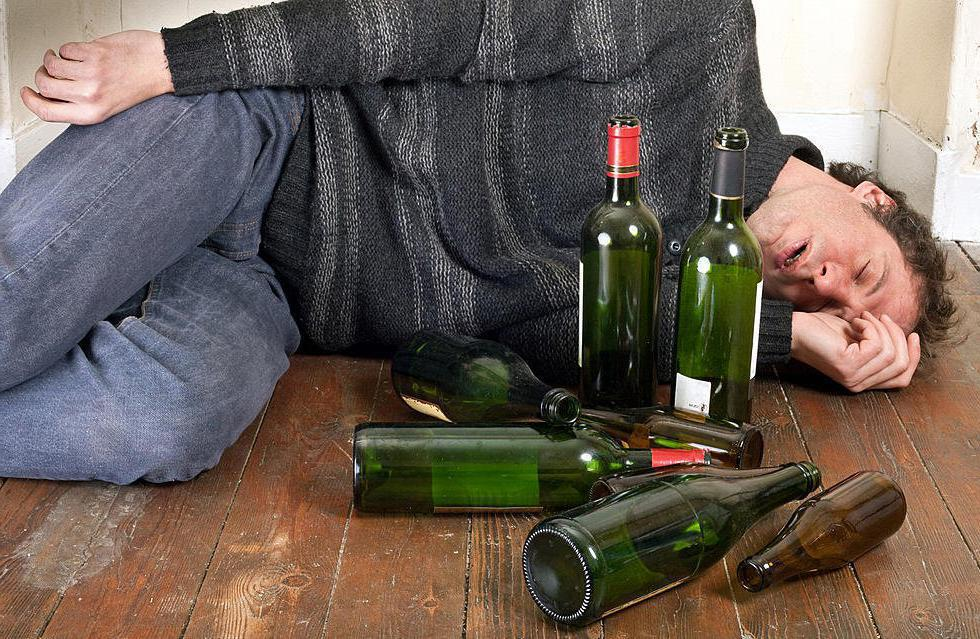Drunk: (758, 183, 926, 357)
